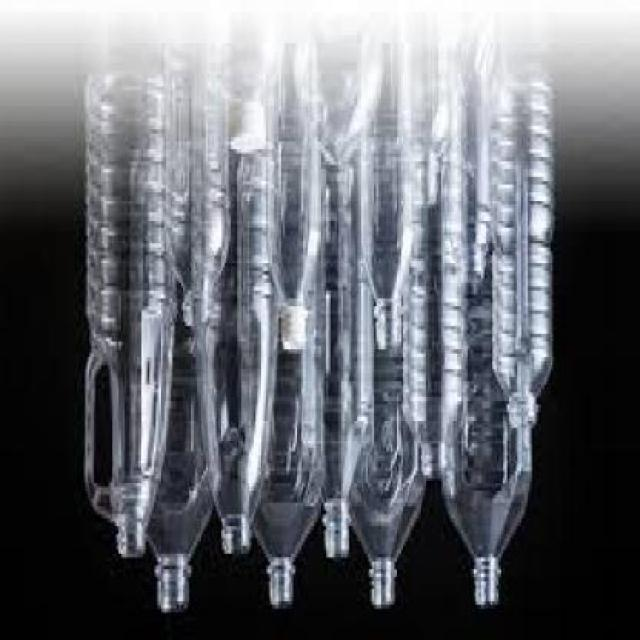PLASTIC: (81, 63, 181, 562), (444, 71, 534, 612), (194, 56, 280, 562), (348, 102, 428, 612), (238, 154, 324, 612), (136, 137, 218, 617), (297, 114, 377, 566), (404, 79, 471, 483), (491, 75, 558, 436), (171, 43, 231, 329), (363, 47, 415, 353), (272, 75, 326, 358), (297, 31, 386, 169), (447, 51, 495, 303), (211, 24, 291, 153), (401, 28, 447, 212), (231, 101, 272, 157), (285, 311, 309, 357)
